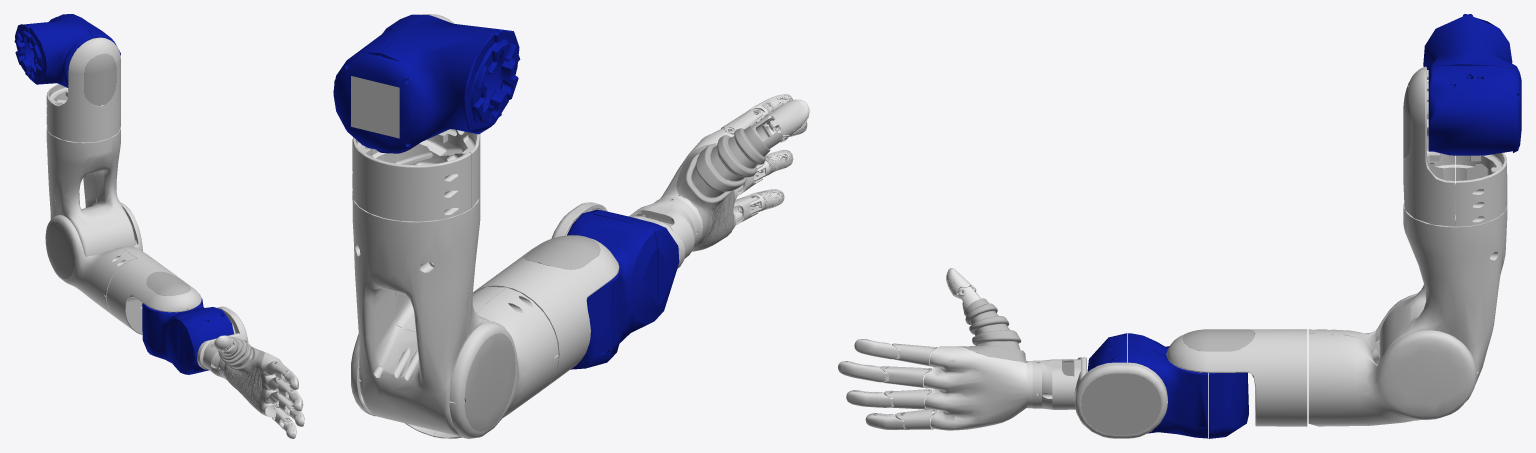
The model's file is rp1-left-arm-web.glb.
3 renders of one model, left to right at view 1: azimuth 30°, elevation 25°; view 2: azimuth 150°, elevation 25°; view 3: azimuth 270°, elevation 25°, orthographic. The views are drawn at different scales.
Parts seen in each view (by area): view 1: 局部修改补充-0916, Plane.008, hand-5, hand-3.002, hand-1.007; view 2: 局部修改补充-0916, Plane.008, hand-5, hand-1.007, Plane.005, hand-3.002; view 3: 局部修改补充-0916, Plane.008, hand-5, hand-3.002, hand-1.007.
Boxes of the visible parts, left/top/right/bottom form: 局部修改补充-0916: left=45, top=37, right=302, bottom=438; Plane.008: left=14, top=14, right=233, bottom=374; hand-5: left=46, top=53, right=266, bottom=414; hand-3.002: left=261, top=352, right=281, bottom=417; hand-1.007: left=214, top=335, right=304, bottom=438; 局部修改补充-0916: left=351, top=14, right=807, bottom=438; Plane.008: left=333, top=14, right=679, bottom=369; hand-5: left=464, top=125, right=770, bottom=431; hand-1.007: left=646, top=94, right=809, bottom=244; Plane.005: left=351, top=76, right=399, bottom=138; hand-3.002: left=660, top=128, right=737, bottom=229; 局部修改补充-0916: left=841, top=66, right=1507, bottom=438; Plane.008: left=1087, top=14, right=1521, bottom=438; hand-5: left=958, top=85, right=1410, bottom=434; hand-3.002: left=923, top=346, right=1027, bottom=430; hand-1.007: left=838, top=268, right=1038, bottom=429.
Bounding box in the file's own units: 0.1098 × 0.3196 × 0.5262.
